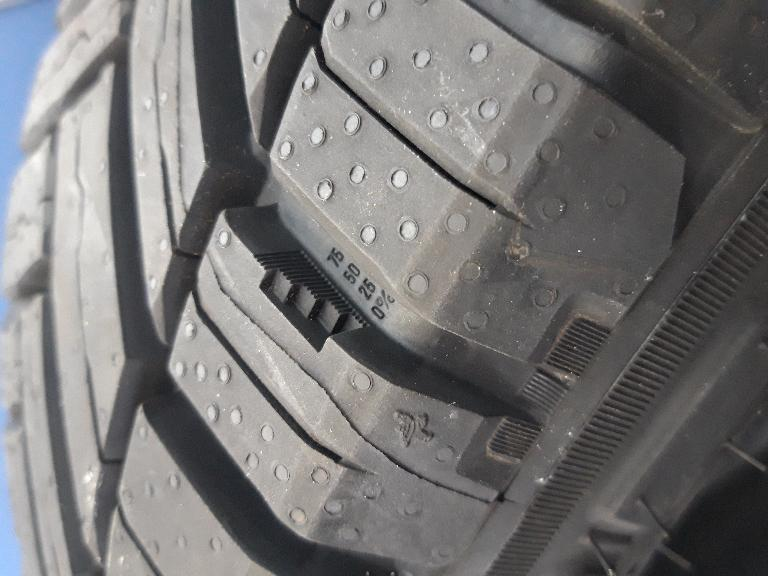temoin:100: (247, 245, 376, 359)
